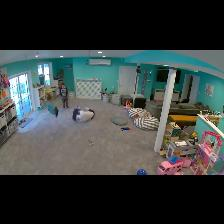person: (73, 107, 94, 121), (45, 95, 58, 117), (60, 83, 68, 108)
